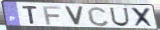C: (86, 6, 111, 28)
F: (42, 5, 62, 26)
T: (21, 5, 39, 25)
U: (109, 7, 131, 27)
V: (63, 5, 85, 26)
X: (131, 7, 156, 29)
